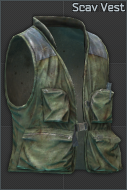Scav Vest: (0, 0, 127, 190)
